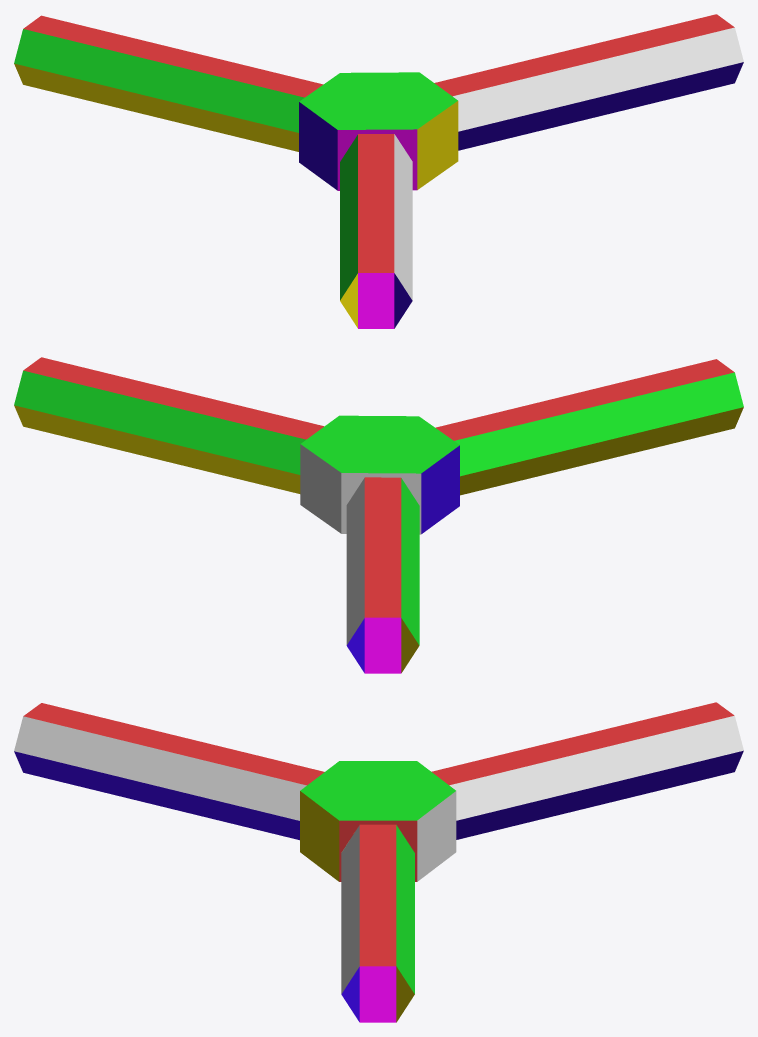
The model's file is 3CorridoorRoom.fbx.
3 views of the same model, one above another, from view 1: azimuth 30°, elevation 25°; view 2: azimuth 150°, elevation 25°; view 3: azimuth 270°, elevation 25° (orthographic).
Visible parts, largest first — view 1: Cylinder, Cylinder.002, Cylinder.003, Cylinder.001; view 2: Cylinder, Cylinder.003, Cylinder.002, Cylinder.001; view 3: Cylinder.002, Cylinder.003, Cylinder, Cylinder.001.
Part boxes in pixels (x1,y1,x2,y2): Cylinder: (434, 14, 743, 150); Cylinder.002: (14, 15, 323, 151); Cylinder.003: (340, 134, 412, 328); Cylinder.001: (299, 72, 458, 190); Cylinder: (14, 357, 323, 493); Cylinder.003: (435, 359, 743, 495); Cylinder.002: (346, 477, 419, 673); Cylinder.001: (300, 415, 459, 534); Cylinder.002: (431, 702, 743, 839); Cylinder.003: (14, 703, 324, 840); Cylinder: (341, 824, 414, 1022); Cylinder.001: (300, 761, 456, 881).
Bounding box in the file's own units: 1731 × 183 × 1972.
